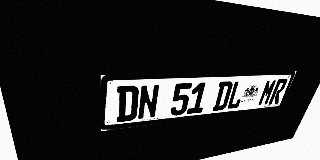1: (187, 82, 209, 114)
5: (170, 83, 192, 116)
D: (116, 85, 139, 122), (212, 81, 234, 111)
L: (226, 80, 247, 110)
M: (257, 79, 278, 106)
N: (137, 84, 160, 120)
R: (268, 79, 288, 105)
